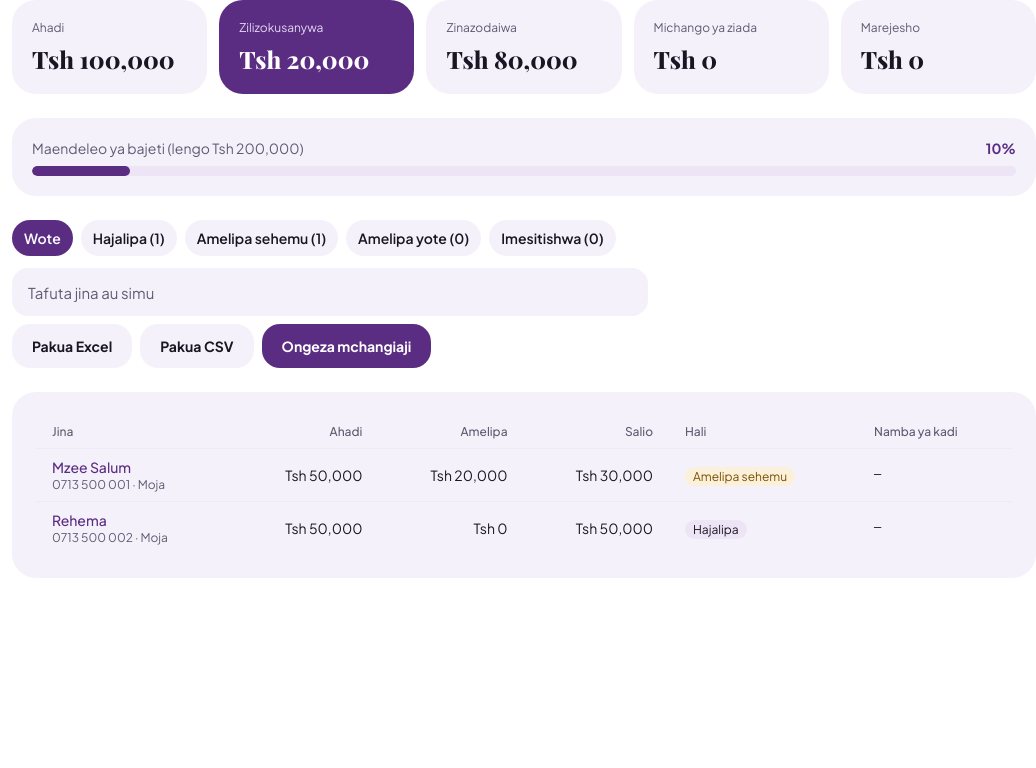
Test: ContributionsDashboard › shows totals, budget progress and Swahili labels; filters and searches
Expected: the text with test id "total-pledged" reads "Tsh 100,000", [32, 43, 175, 75]
Expected: the text with test id "total-outstanding" reads "Tsh 80,000", [446, 43, 578, 75]
Click the tab "Hajalipa (1)" at [129, 238], box [81, 220, 177, 256]
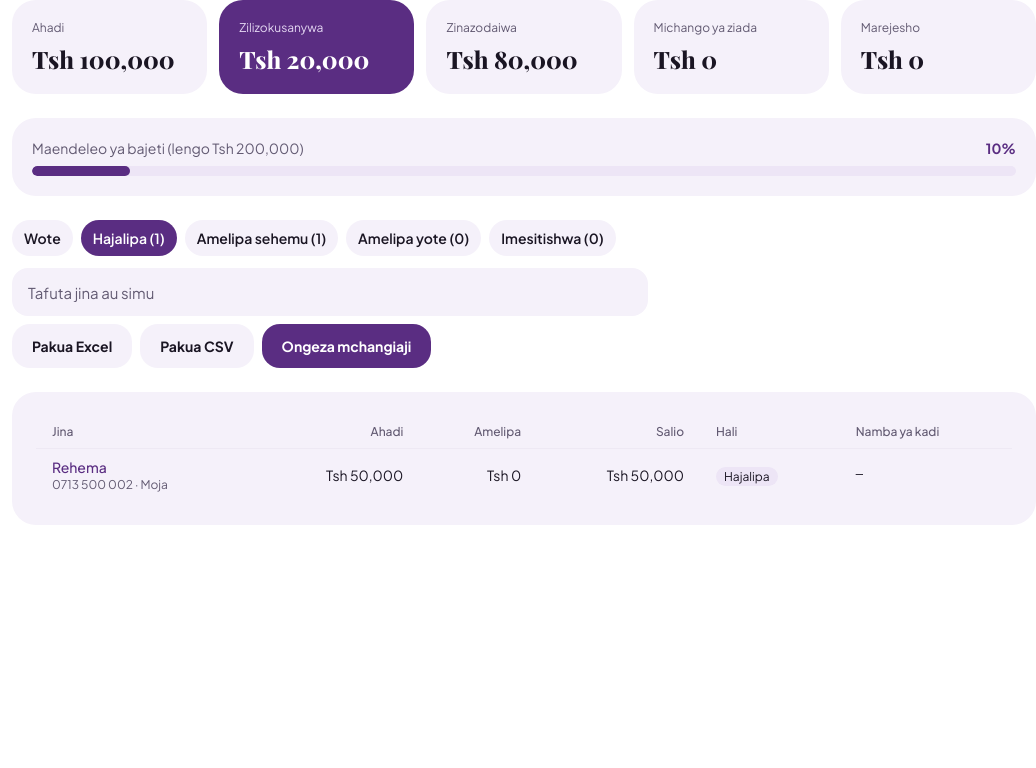
Expected: the button "Rehema" is shown, [52, 457, 107, 477]
Expected: the button "Mzee Salum" is gone
Click the tab "Wote" at [42, 238], box [12, 220, 73, 256]
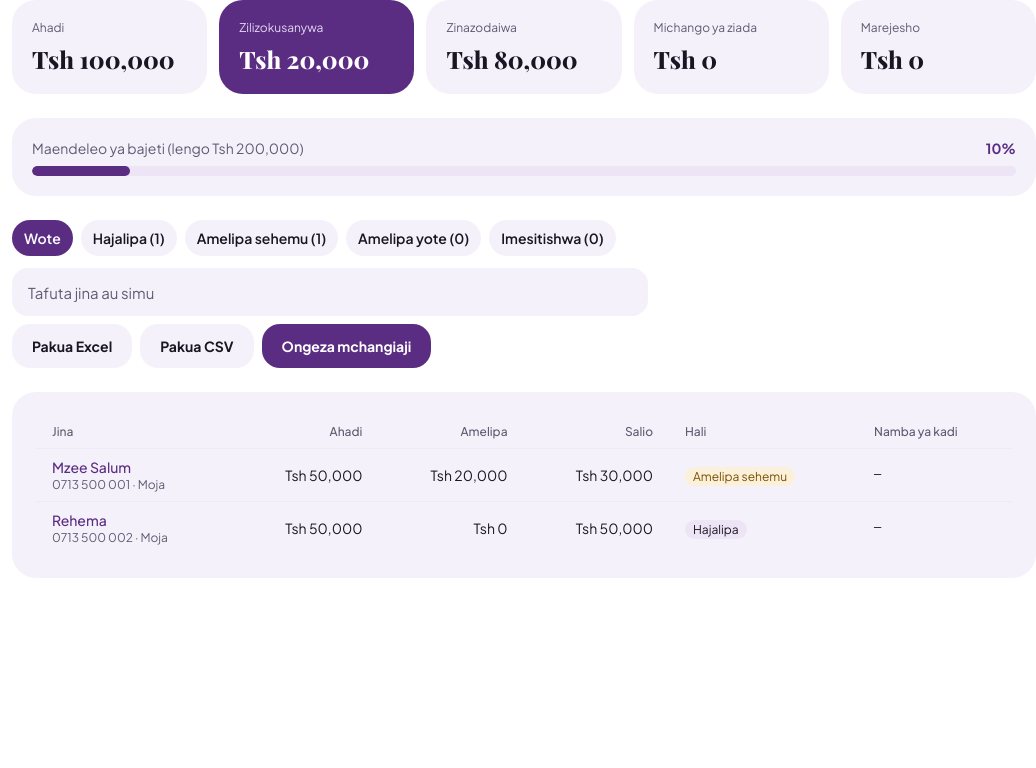
Type "0713 500 001" into the field labelled "Tafuta jina au simu" at [330, 292], box [12, 268, 648, 316]
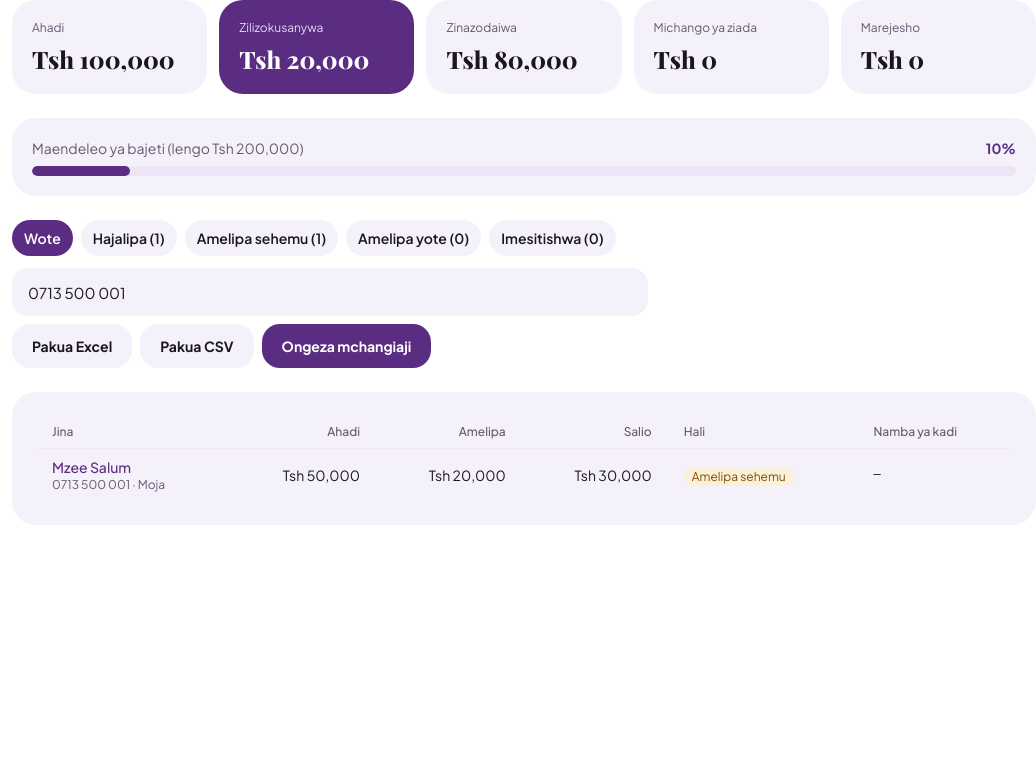
Expected: the button "Mzee Salum" is shown, [52, 457, 131, 477]
Expected: the button "Rehema" is gone
